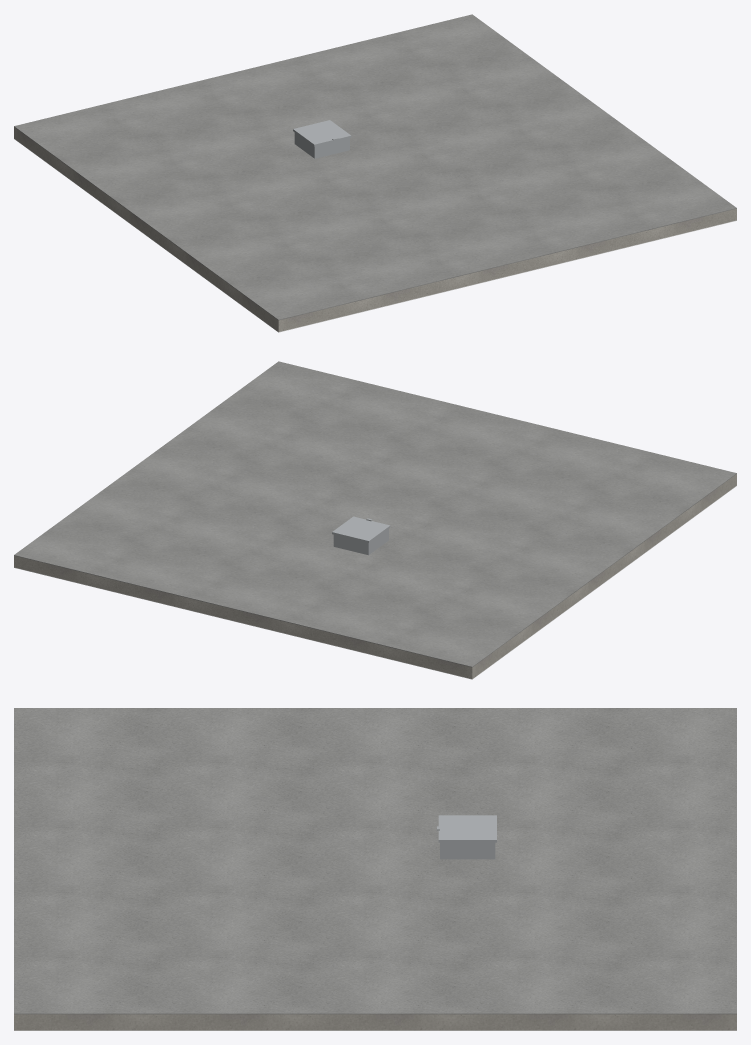
File: slab_roof.glb
3 views of the same model, one above another, from view 1: azimuth 30°, elevation 25°; view 2: azimuth 150°, elevation 25°; view 3: azimuth 270°, elevation 25° (orthographic). The views are drawn at different scales.
Parts seen in each view (by area): view 1: slab_roof_membrane, slab_roof_concrete, slab_roof_metal, slab_roof_ceil; view 2: slab_roof_membrane, slab_roof_concrete, slab_roof_metal, slab_roof_ceil; view 3: slab_roof_membrane, slab_roof_concrete, slab_roof_metal, slab_roof_ceil.
Boxes of the visible parts, bbox=[...] form: slab_roof_membrane: bbox=[14, 14, 736, 320]; slab_roof_concrete: bbox=[14, 127, 736, 331]; slab_roof_metal: bbox=[293, 120, 351, 158]; slab_roof_ceil: bbox=[14, 138, 736, 332]; slab_roof_membrane: bbox=[14, 361, 736, 667]; slab_roof_concrete: bbox=[14, 474, 736, 678]; slab_roof_metal: bbox=[332, 516, 390, 555]; slab_roof_ceil: bbox=[14, 485, 736, 679]; slab_roof_membrane: bbox=[14, 708, 736, 1014]; slab_roof_concrete: bbox=[14, 1014, 736, 1030]; slab_roof_metal: bbox=[437, 815, 496, 859]; slab_roof_ceil: bbox=[14, 1030, 736, 1030].
Bounding box in the file's own units: 9.4 × 0.56 × 9.4.
Materials: 4 (2 with a texture image).
